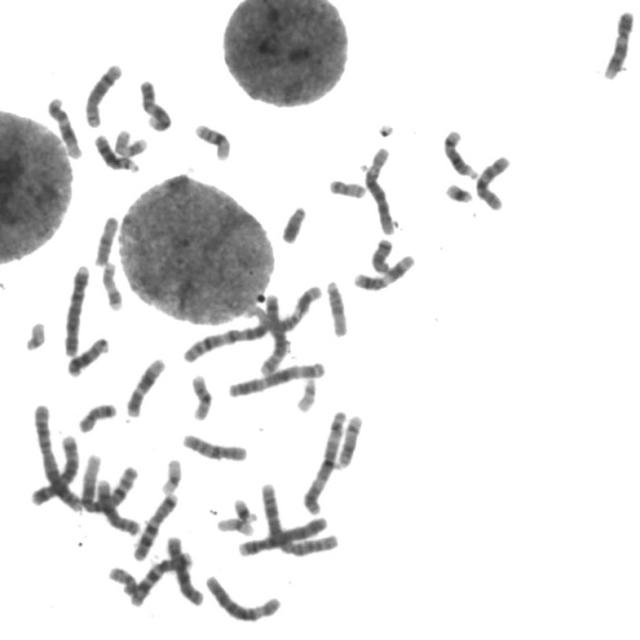A1: (178, 294, 288, 364), (76, 449, 142, 515)
A2: (256, 475, 342, 558), (29, 397, 85, 513)
A3: (299, 404, 351, 516), (224, 356, 329, 398)
B4: (235, 511, 332, 558), (59, 258, 93, 358)
B5: (27, 429, 82, 507), (256, 290, 291, 377)
C10: (472, 148, 515, 212), (178, 427, 251, 463)
C11: (350, 248, 419, 292), (275, 282, 323, 336)
C12: (123, 351, 170, 419), (43, 91, 86, 159)
C6: (202, 569, 286, 623), (362, 140, 400, 236)
C7: (125, 547, 196, 607), (130, 486, 182, 562)
C8: (92, 474, 144, 537), (81, 57, 126, 128)
C9: (599, 4, 637, 81), (135, 80, 174, 135)
D13: (91, 128, 143, 174), (64, 331, 112, 377)
D14: (438, 123, 482, 180), (332, 408, 366, 471)
D15: (90, 210, 122, 267), (323, 274, 351, 338)
E16: (191, 117, 235, 162), (187, 368, 217, 422)
E17: (100, 255, 126, 312), (112, 124, 150, 158)
E18: (74, 396, 121, 434), (367, 232, 397, 274)
F19: (157, 452, 186, 495), (214, 511, 256, 537)
F20: (104, 561, 141, 598), (325, 172, 370, 200)
G21: (230, 492, 261, 524), (441, 177, 477, 204)
G22: (293, 372, 320, 414), (20, 315, 50, 352)
X: (162, 530, 207, 607)
Y: (277, 200, 311, 245)
